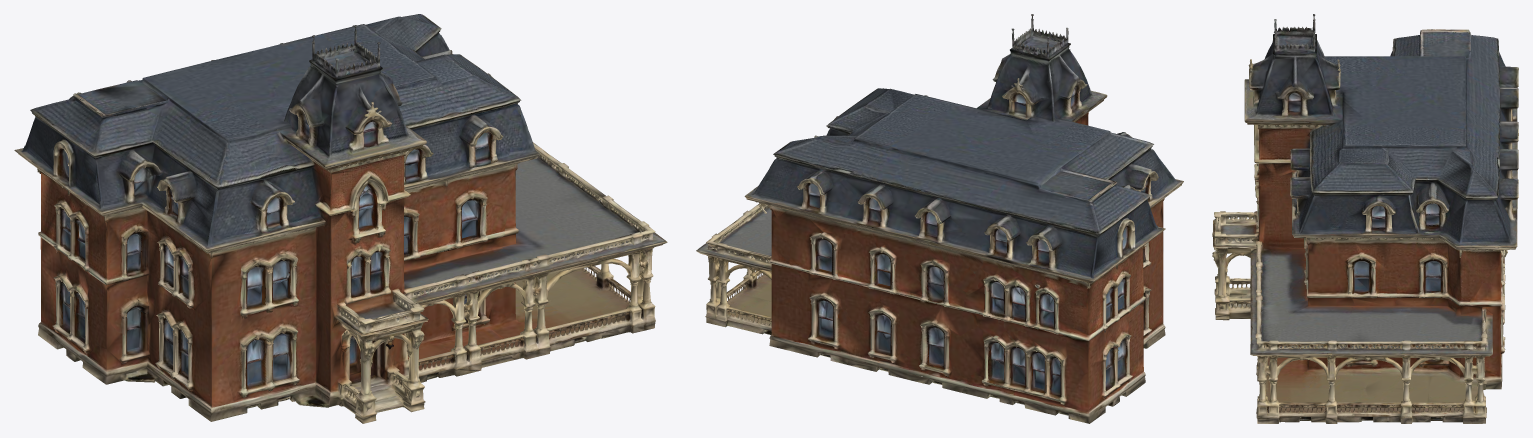
Rendered from stager-beckwith.glb.
3 renders of one model, left to right at view 1: azimuth 30°, elevation 25°; view 2: azimuth 150°, elevation 25°; view 3: azimuth 270°, elevation 25°, orthographic. The views are drawn at different scales.
Parts seen in each view (by area): view 1: tripo_node_807e4523-7f51-4d6b-b1d2-79caa2376921; view 2: tripo_node_807e4523-7f51-4d6b-b1d2-79caa2376921; view 3: tripo_node_807e4523-7f51-4d6b-b1d2-79caa2376921.
Boxes of the visible parts, box(x1,y1,x2,y2) form: tripo_node_807e4523-7f51-4d6b-b1d2-79caa2376921: box(14, 14, 667, 423); tripo_node_807e4523-7f51-4d6b-b1d2-79caa2376921: box(696, 14, 1183, 423); tripo_node_807e4523-7f51-4d6b-b1d2-79caa2376921: box(1212, 14, 1518, 423).
Size of the model in its own units: 0.9843 by 0.6571 by 0.6381.
Materials: 1 (1 with a texture image).
